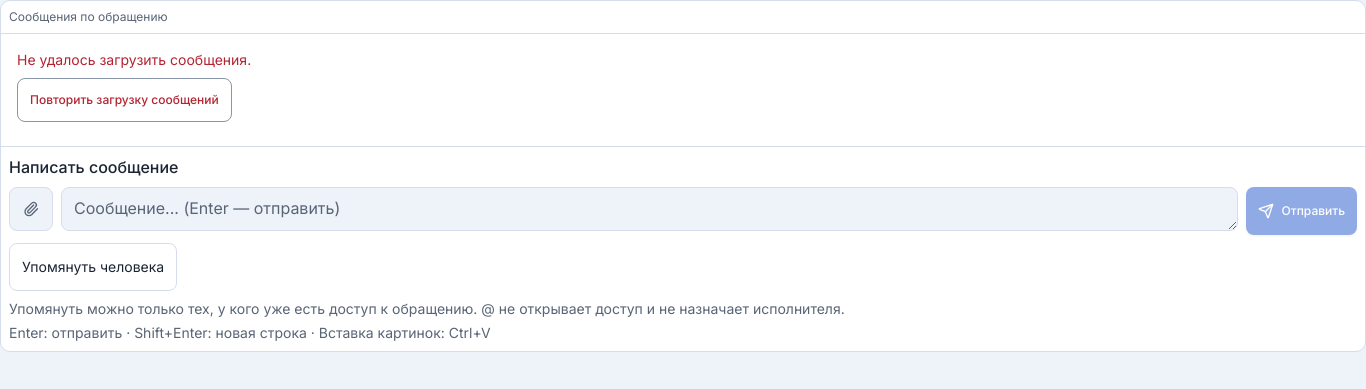
Test: distinguishes failed message loading from an empty chat and preserves the draft through a successful retry
The width and height of the screenshot is (1366, 389).
Expected: the message shows "Не удалось загрузить сообщения.", [17, 51, 251, 68]
Expected: the text "Пока нет сообщений" is not shown
Type "Синтетический черновик" into the text box labelled "Сообщение" at x=649, y=209, box [61, 187, 1238, 231]
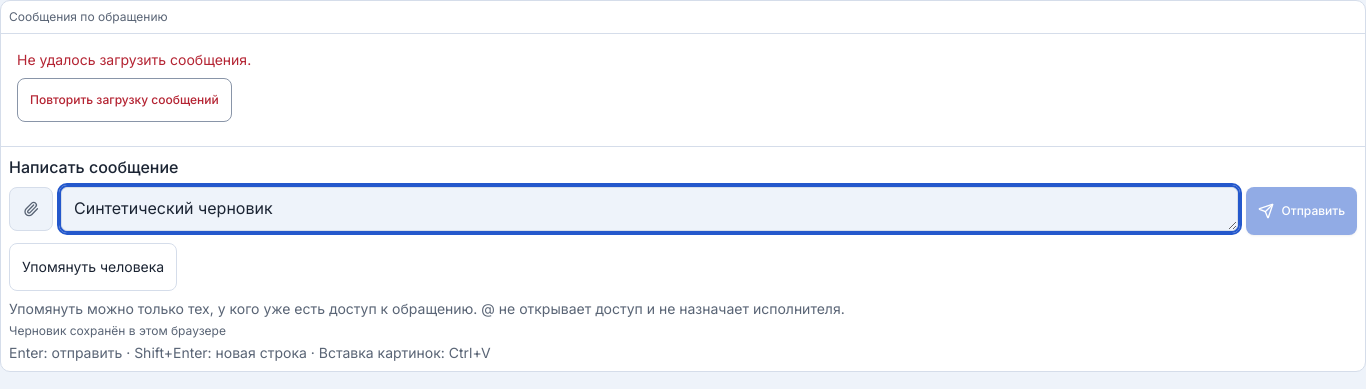
Expected: the button with aria-label "Отправить сообщение" is disabled, [1246, 187, 1357, 235]
Click the button "Повторить загрузку сообщений" at x=124, y=100, box [17, 78, 232, 122]
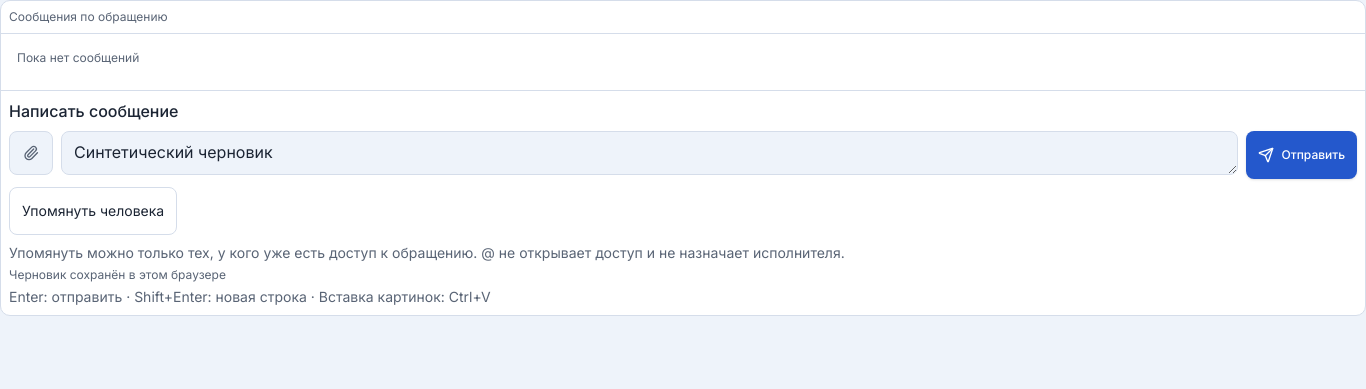
Now the text "Пока нет сообщений" is shown, box [17, 50, 139, 65]
Now the message "Не удалось загрузить сообщения. Повторить загрузку сообщений" is gone
Now the button with aria-label "Отправить сообщение" is enabled, box [1246, 131, 1357, 179]
